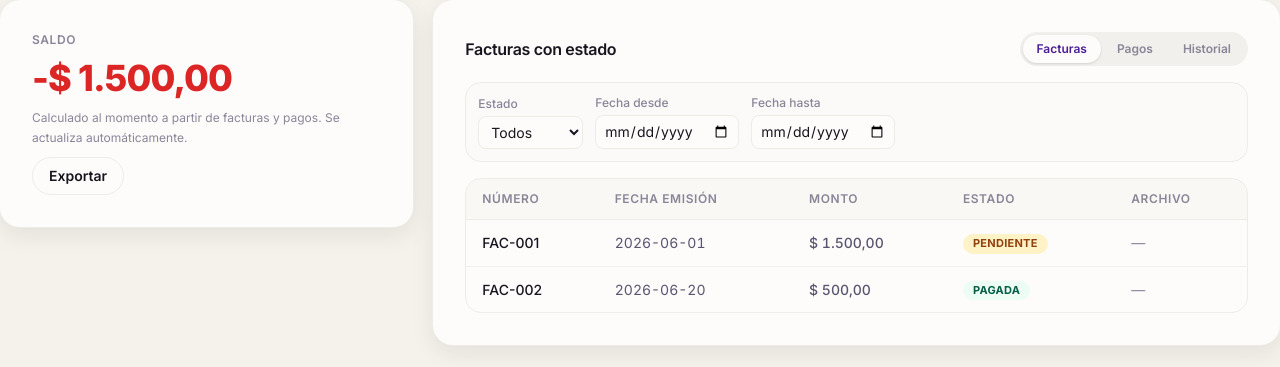
Test: CuentaCorrientePage › the newest-first row (response's last entry) shows the SaldoBadge value
What coordinates should you click on to do the following:
click the button "Historial"
I would click on:
 (1207, 49)
Its box is [1169, 35, 1245, 63].
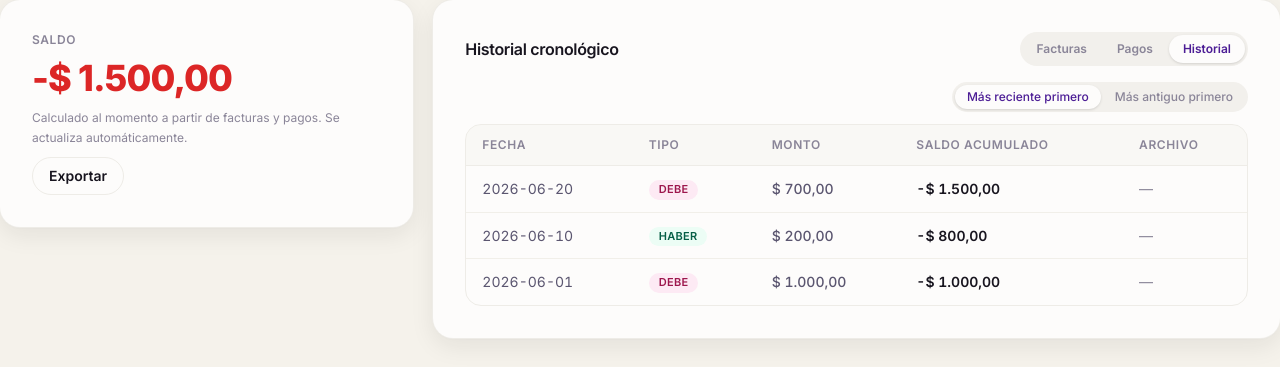
Expected: the text with test id "saldo-badge" shows "1.500,00", [32, 56, 232, 100]
Now the cell with test id "historial-saldo-acumulado" shows "1.500,00", box [916, 180, 1000, 197]
